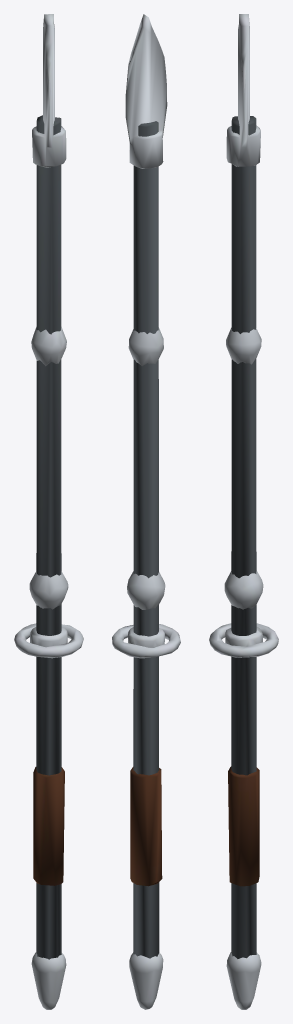
The model's file is dragoon-lance.glb.
3 views of the same model, side by side, from view 1: azimuth 90°, elevation 25°; view 2: azimuth 210°, elevation 25°; view 3: azimuth 270°, elevation 25° (orthographic).
Visible parts, largest first — view 1: lance; view 2: lance; view 3: lance.
Boxes of the visible parts, bbox=[...] form: lance: bbox=[14, 14, 83, 1009]; lance: bbox=[112, 14, 180, 1009]; lance: bbox=[209, 14, 278, 1009].
Size of the model in its own units: 0.0946 by 1.51 by 0.0959.
1 material, 1 textured.
